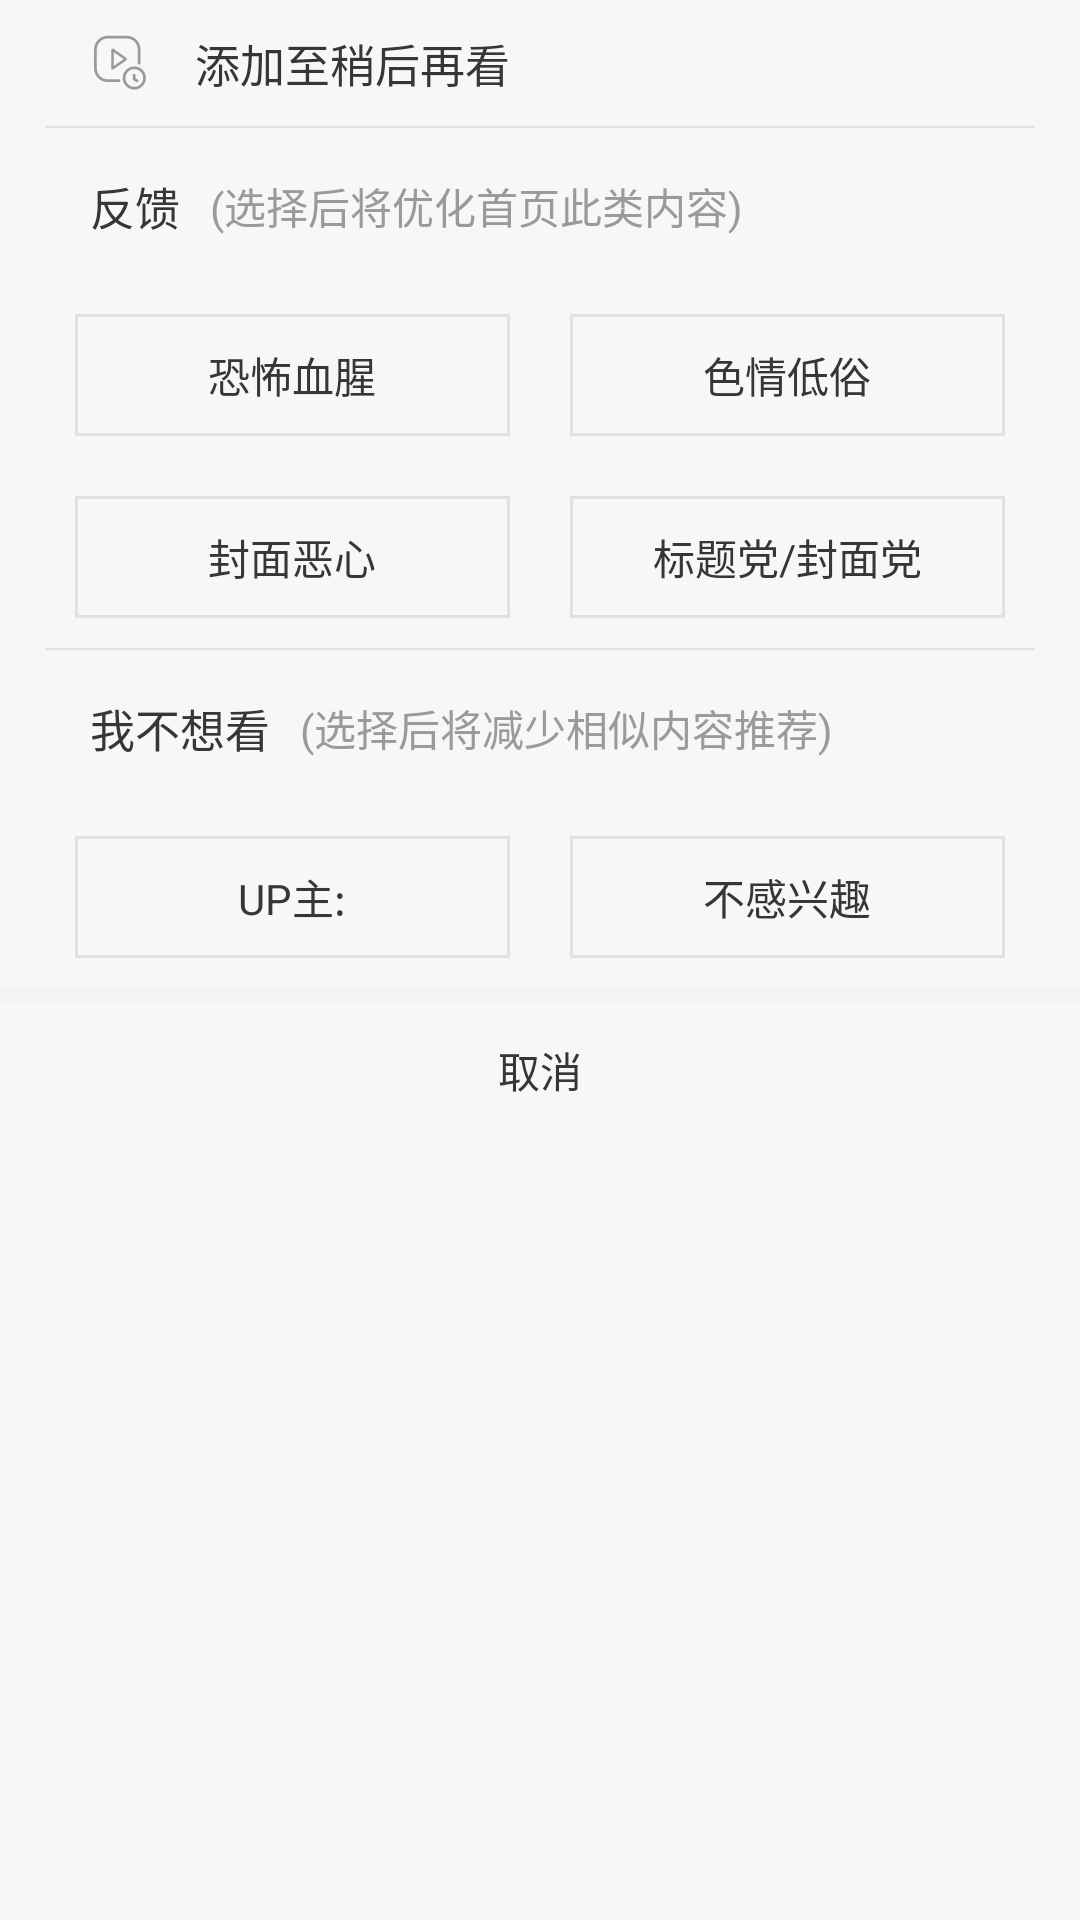

Where to tap for icons on this 1080x1920 app screen, as point (x, y):
shaohouguankan: point (120, 63)
